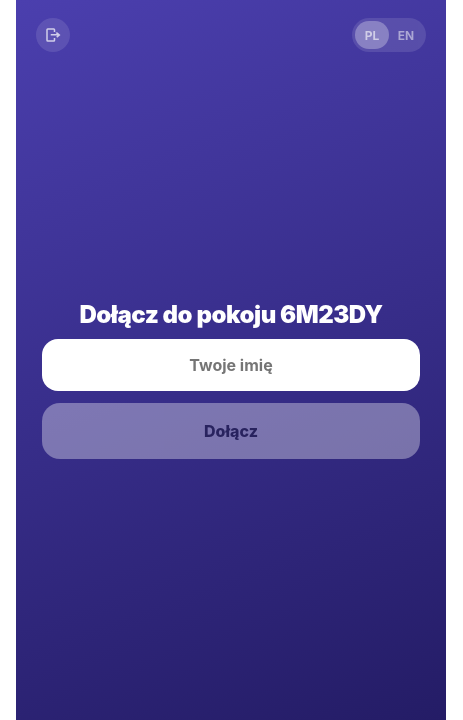
a Guest waiting to be let into a started Game › withdraws the request with Cancel: back on the form, and the Host no longer has the request
Type "Latecomer" into the field with placeholder "Twoje imię" at (231, 365), box [42,339,420,391]
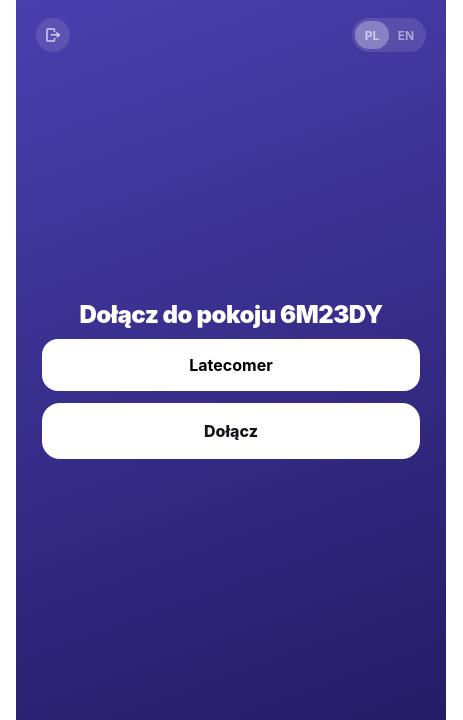
Submit the form "Dołącz", box [42,339,420,459]
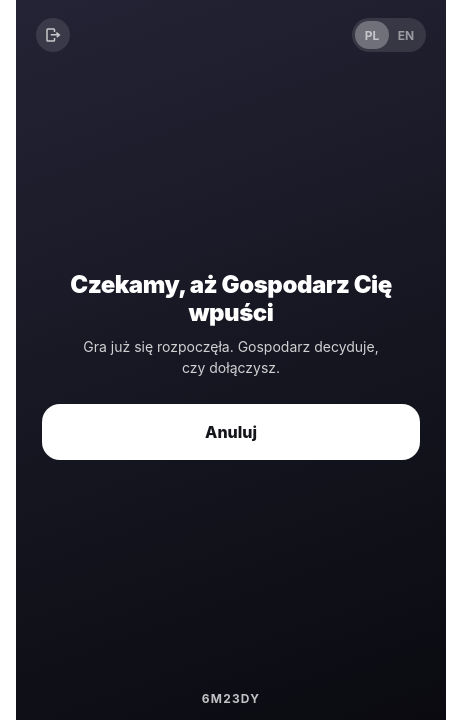
Click the button "Anuluj" at (231, 432), box [42,404,420,460]
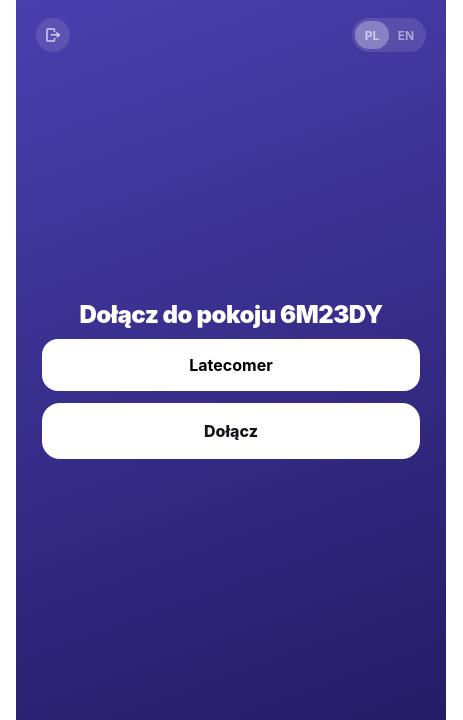
Result: the text "Czekamy, aż Gospodarz Cię wpuści" is gone
Result: the field with placeholder "Twoje imię" is shown at [42,339,420,391]
